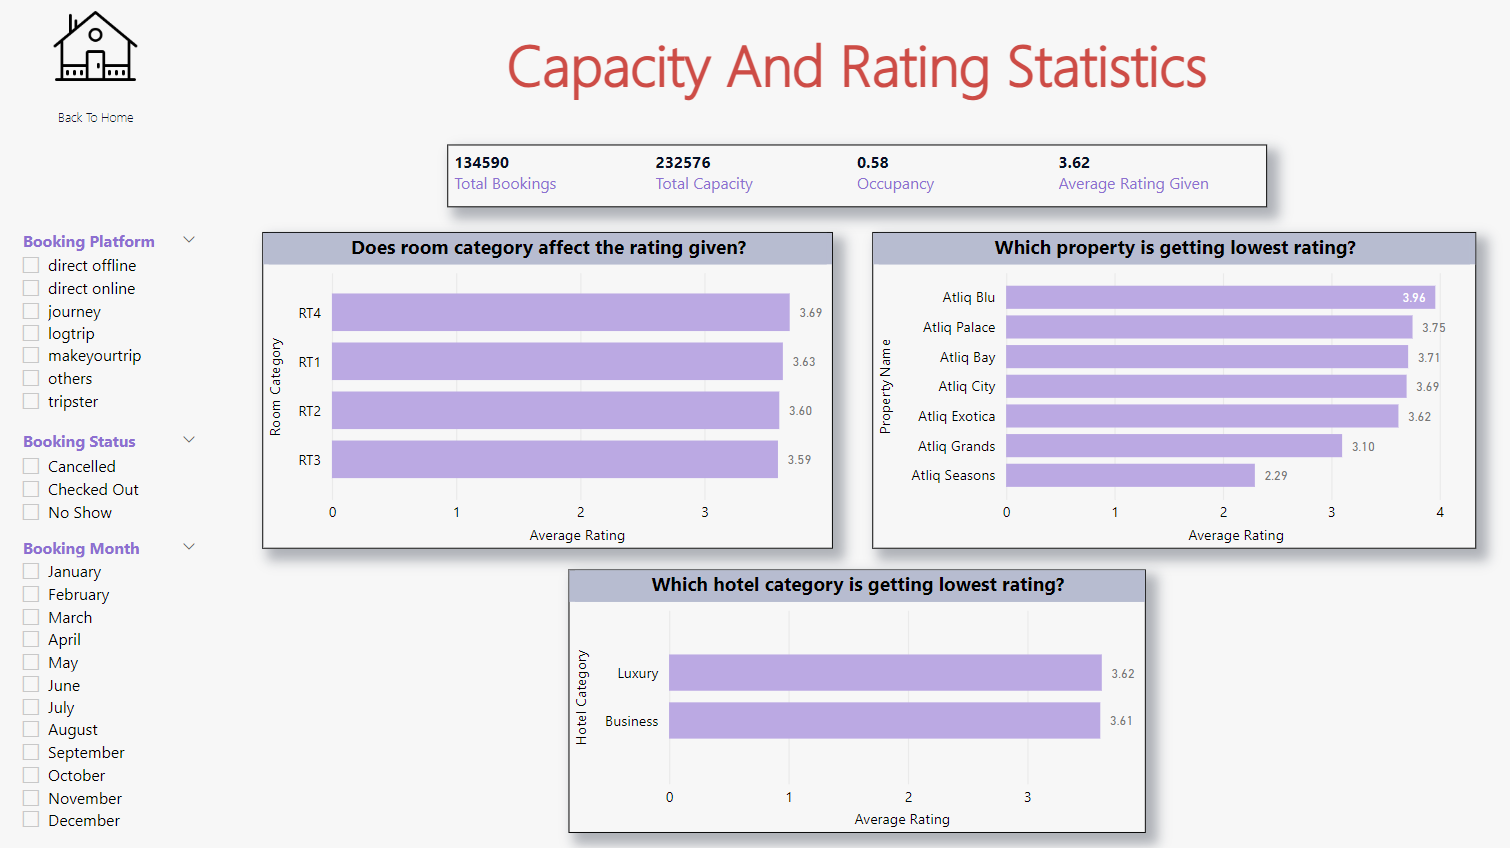

The page's visual inventory and layout, read from the dashboard file:
{"tool":"powerbi","page":{"name":"Capacity and Rating Stats Main","canvas":[1280,720],"ordinal":5},"visuals":[{"type":"multiRowCard","fields":{"Values":["fact_bookings.Total_Bookings","fact_aggregated_bookings.Total Capacity","fact_aggregated_bookings.Occupancy","fact_bookings.avg_rating_given"]},"box":[379.3,124.4,689.3,52.6],"z":0},{"type":"barChart","title":"Does room category affect the rating given?","fields":{"Y":["Avg(fact_bookings.ratings_given)"],"Category":["fact_bookings.room_category"]},"box":[224.2,198,480,266.3],"z":1000},{"type":"barChart","title":"Which property is getting lowest rating?","fields":{"Y":["Avg(fact_bookings.ratings_given)"],"Category":["dim_hotels.property_name"]},"box":[737.5,198,508,266.3],"z":2000},{"type":"barChart","title":"Which hotel category is getting lowest rating?","fields":{"Y":["Avg(fact_bookings.ratings_given)"],"Category":["dim_hotels.hotel_category"]},"box":[481.8,481.8,485.3,221.6],"z":3000},{"type":"textbox","box":[330.2,18.4,788.3,77.1],"z":4000},{"type":"image","box":[33.3,0,101.6,85],"z":5000},{"type":"textbox","box":[40.3,85,87.6,35],"z":6000},{"type":"slicer","fields":{"Values":["fact_bookings.booking_platform"]},"box":[9.6,191.8,170.8,169.9],"z":7000},{"type":"slicer","fields":{"Values":["fact_bookings.booking_status"]},"box":[9.6,360,170.8,95.5],"z":8000},{"type":"slicer","fields":{"Values":["fact_bookings.booking_date.Variation.Date Hierarchy.Month"]},"box":[9.6,449.3,170.8,270.7],"z":9000}]}

Visuals, with their boxes on the page's 1280x720 design canvas (x1, y1, x2, y2). These are canvas units, not pixel positions in the 1510x848 screenshot, which may show the page scaled, cropped or inside an application window:
multiRowCard - fact_bookings.Total_Bookings x fact_aggregated_bookings.Total Capacity: (379, 124, 1069, 177)
"Does room category affect the rating given?" barChart: (224, 198, 704, 464)
"Which property is getting lowest rating?" barChart: (738, 198, 1246, 464)
"Which hotel category is getting lowest rating?" barChart: (482, 482, 967, 703)
textbox: (330, 18, 1118, 96)
image: (33, 0, 135, 85)
textbox: (40, 85, 128, 120)
slicer - fact_bookings.booking_platform: (10, 192, 180, 362)
slicer - fact_bookings.booking_status: (10, 360, 180, 456)
slicer - fact_bookings.booking_date.Variation.Date Hierarchy.Month: (10, 449, 180, 720)
